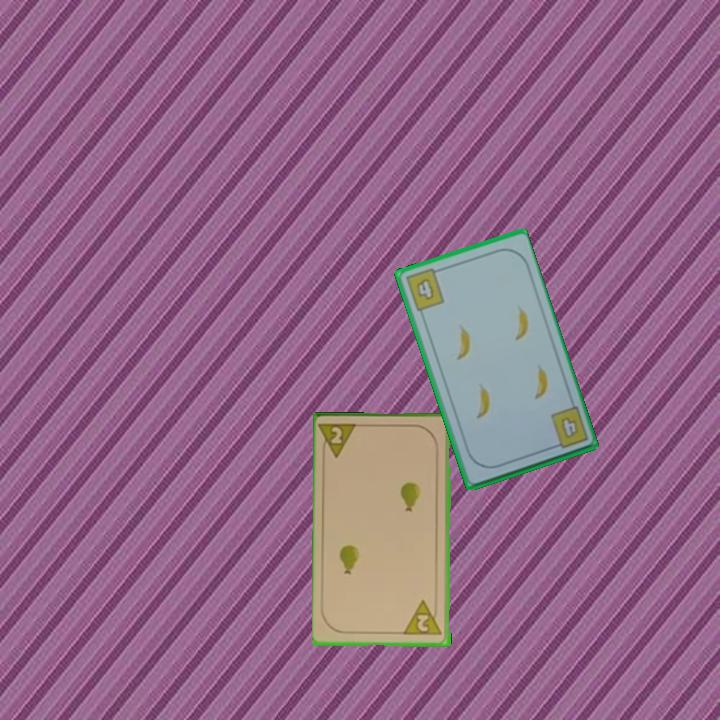2p: (318, 420, 362, 462), (402, 597, 445, 638)
4b: (402, 265, 447, 314), (547, 403, 591, 452)
